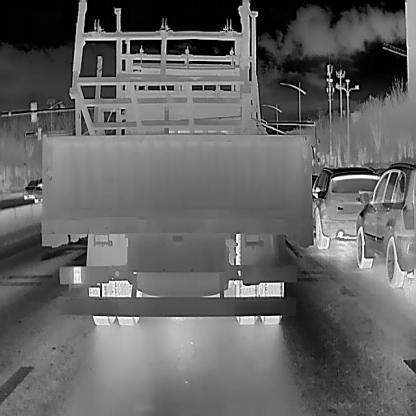car: (40, 51, 312, 325), (354, 159, 416, 289), (311, 164, 381, 250), (24, 177, 43, 201)
